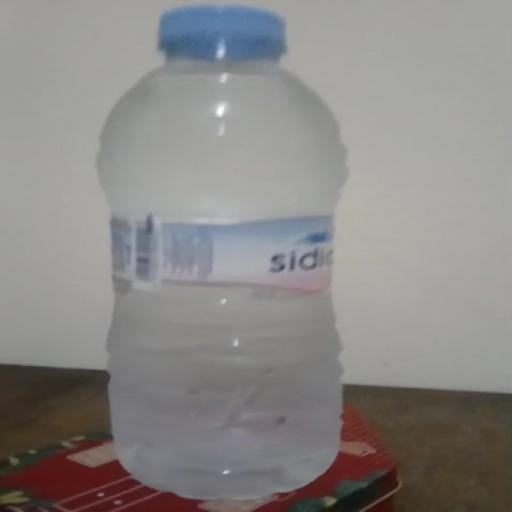bouteille conformite: (91, 0, 375, 502)
